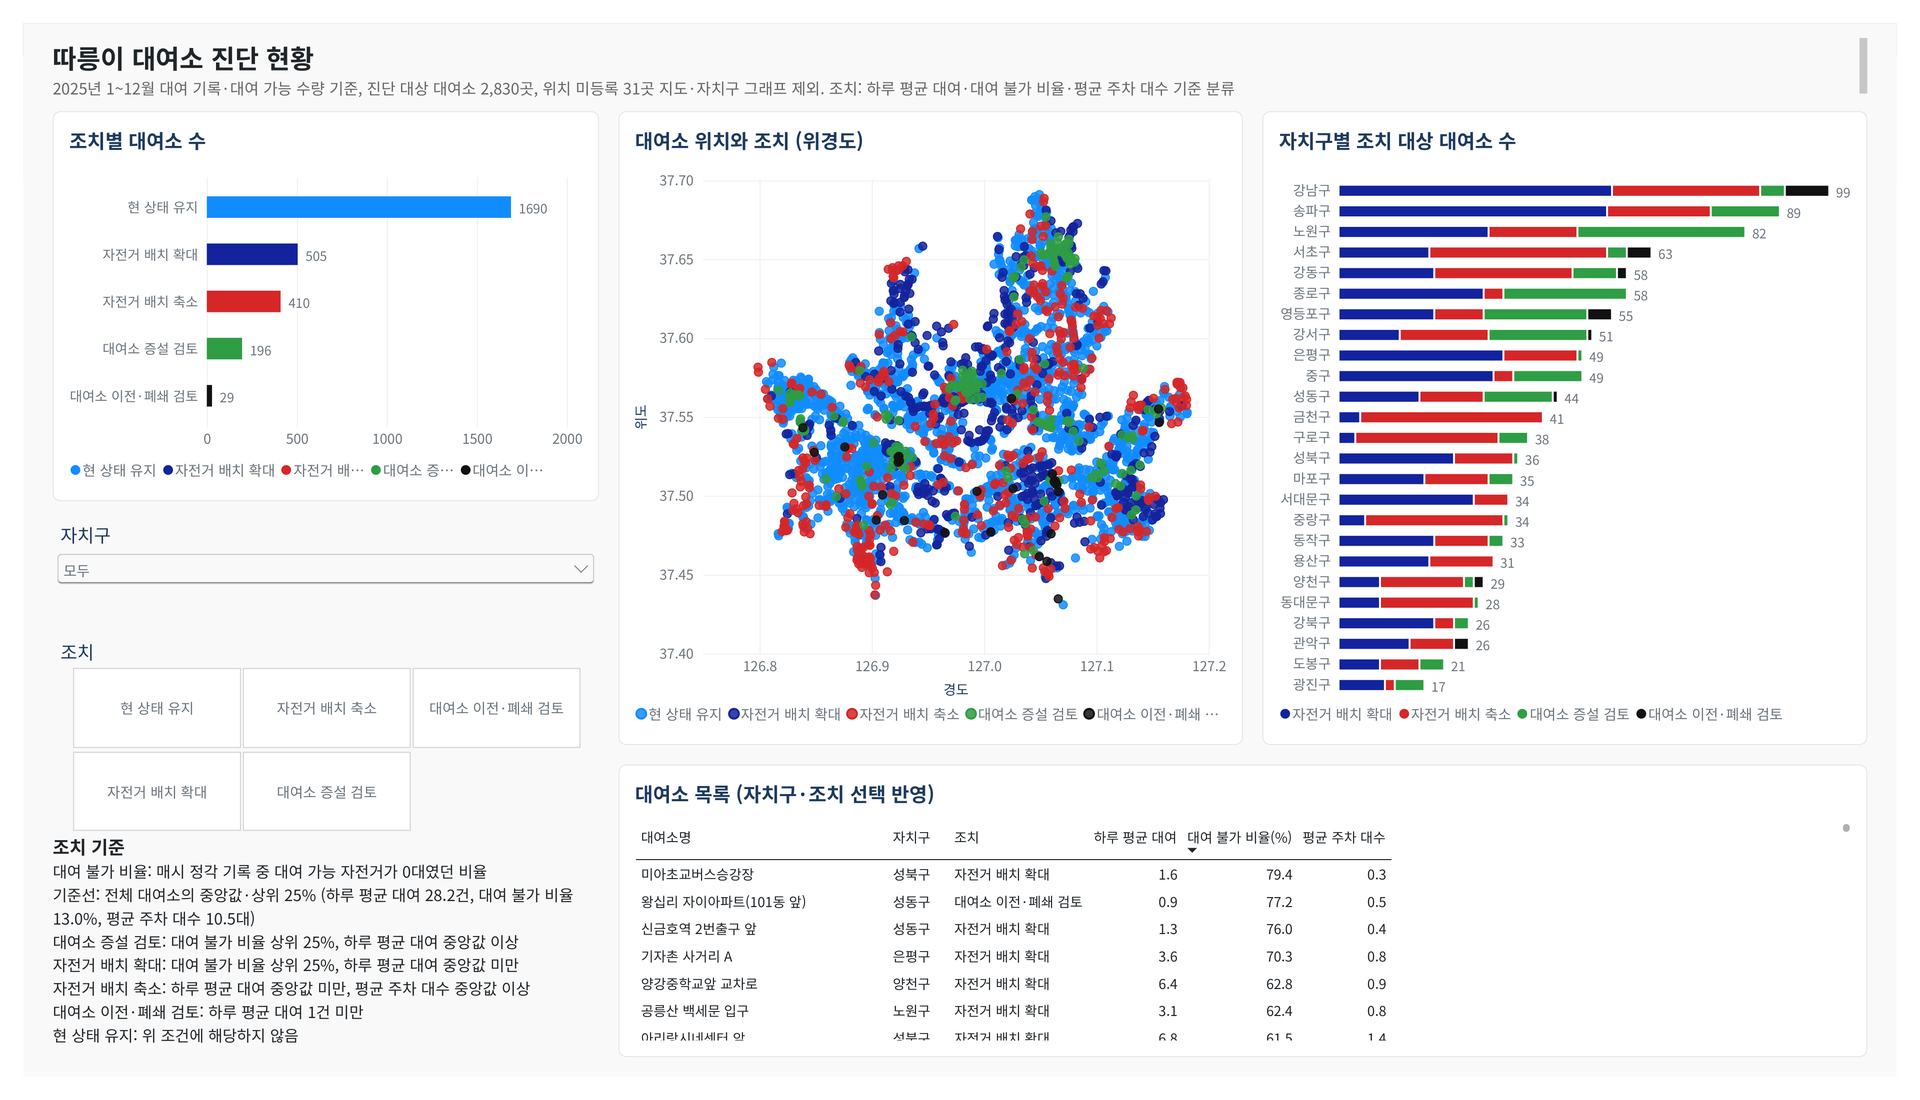

What the dashboard file says about the page in this screenshot:
{"tool":"powerbi","page":{"name":"1 페이지","canvas":[1920,1080],"ordinal":0},"visuals":[{"type":"barChart","title":"조치별 대여소 수","fields":{"Category":["stations.조치"],"Series":["stations.조치"],"Y":["stations.대여소 수"]},"box":[30,90,560,400],"z":0},{"type":"scatterChart","title":"대여소 위치와 조치 (위경도)","fields":{"Category":["stations.대여소번호"],"Series":["stations.조치"],"X":["Sum(stations.경도)"],"Y":["Sum(stations.위도)"]},"box":[610,90,640,650],"z":1},{"type":"barChart","title":"자치구별 조치 대상 대여소 수","fields":{"Category":["stations.자치구"],"Series":["stations.조치"],"Y":["stations.조치 대상 수"]},"box":[1270,90,620,650],"z":2},{"type":"slicer","fields":{"Values":["stations.자치구"]},"box":[30,510,560,100],"z":3},{"type":"slicer","fields":{"Values":["stations.조치"]},"box":[30,630,560,200],"z":4},{"type":"tableEx","title":"대여소 목록 (자치구·조치 선택 반영)","fields":{"Values":["stations.대여소명","stations.자치구","stations.조치","Sum(stations.하루평균대여)","Sum(stations.공백률)","Sum(stations.평균주차대수)"]},"box":[610,760,1280,300],"z":5},{"type":"textbox","box":[30,830,560,230],"z":6},{"type":"textbox","box":[30,15,1860,60],"z":7}]}

Visuals, with their boxes in screenshot pixels (x1, y1, x2, y2), scaled from the page's 1920x1080 canvas onto the 1920x1100 screenshot:
"조치별 대여소 수" barChart: 30/92/590/499
"대여소 위치와 조치 (위경도)" scatterChart: 610/92/1250/754
"자치구별 조치 대상 대여소 수" barChart: 1270/92/1890/754
slicer - stations.자치구: 30/519/590/621
slicer - stations.조치: 30/642/590/845
"대여소 목록 (자치구·조치 선택 반영)" tableEx: 610/774/1890/1080
textbox: 30/845/590/1080
textbox: 30/15/1890/76
